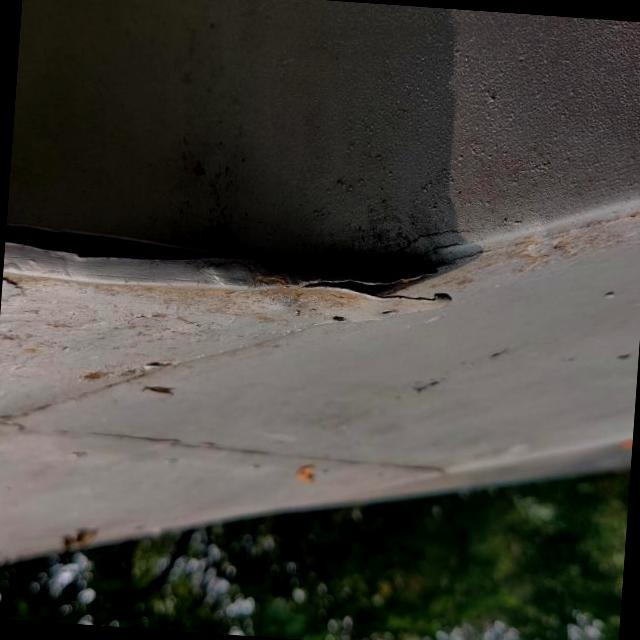crack: (286, 218, 474, 330)
